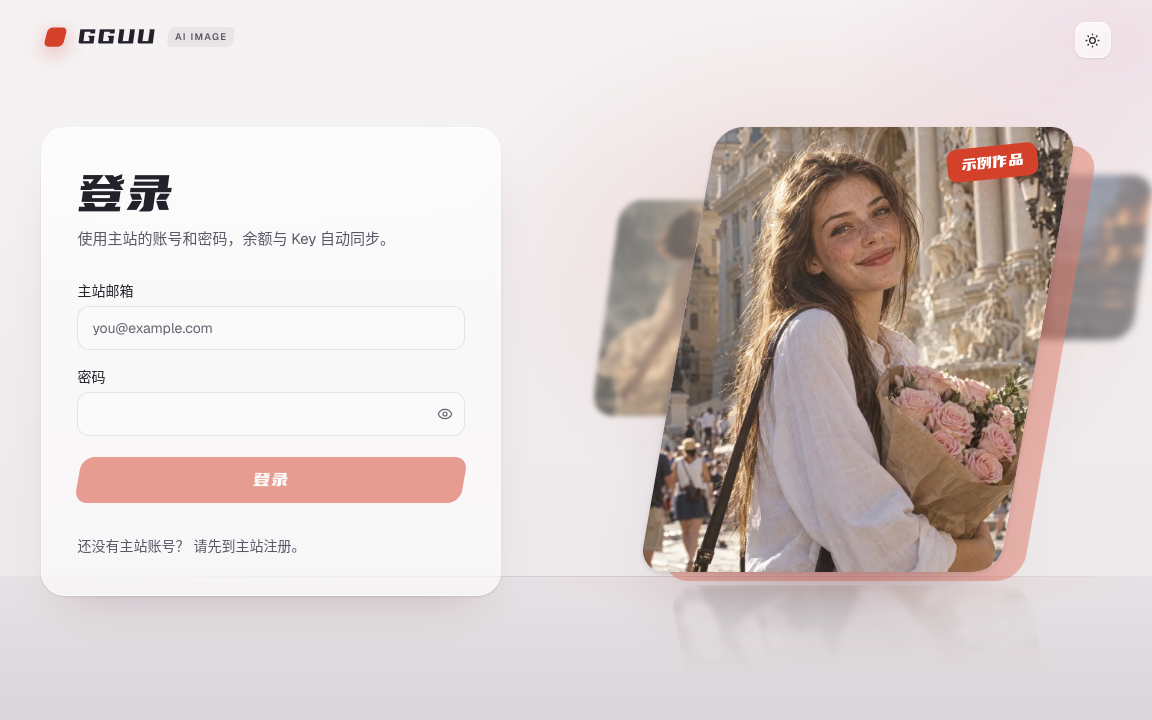
Login page › counts down after rate limiting using Retry-After
Type "user@example.com" into the field labelled "主站邮箱" at (272, 328), box [78, 306, 466, 350]
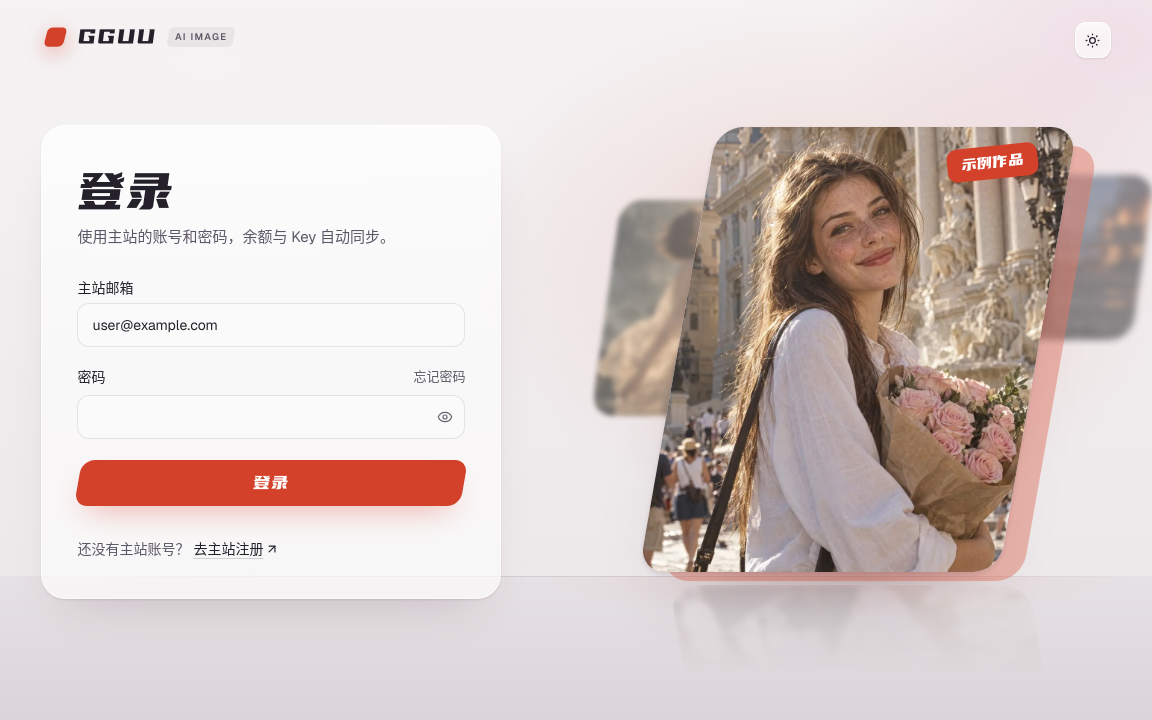
Type "s3cret-pass" into the password field labelled "密码" at (272, 416), box [78, 394, 466, 438]
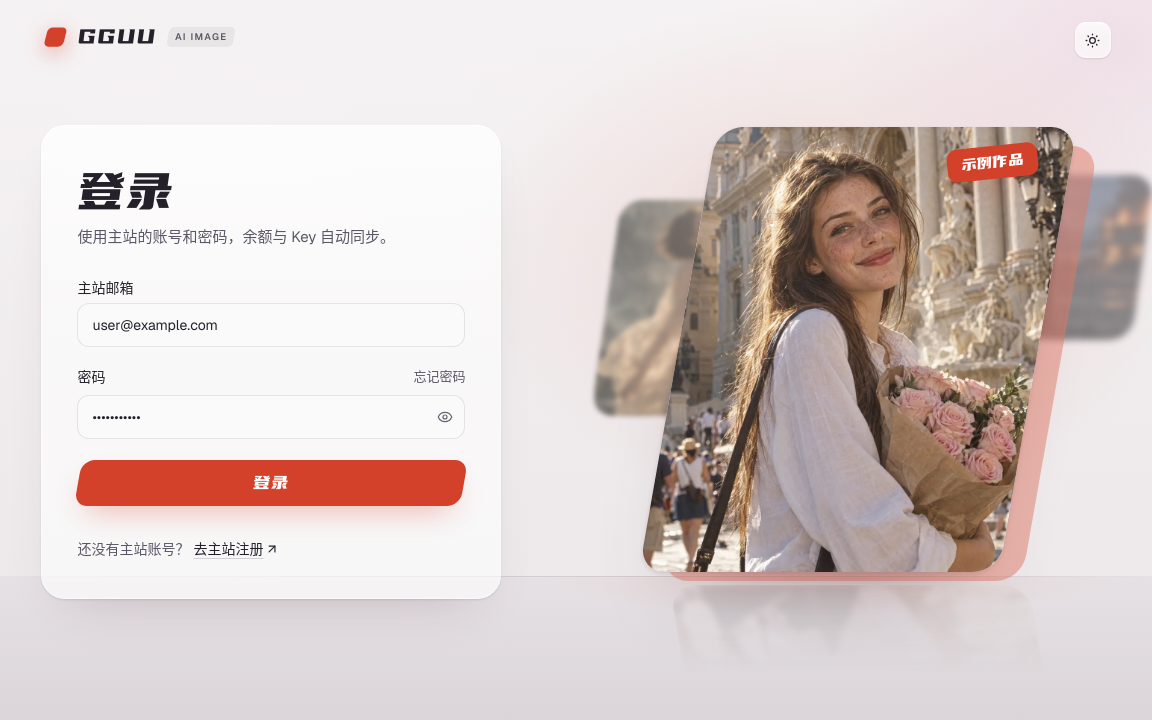
Click the button "登录" at (271, 482), box [73, 458, 470, 506]
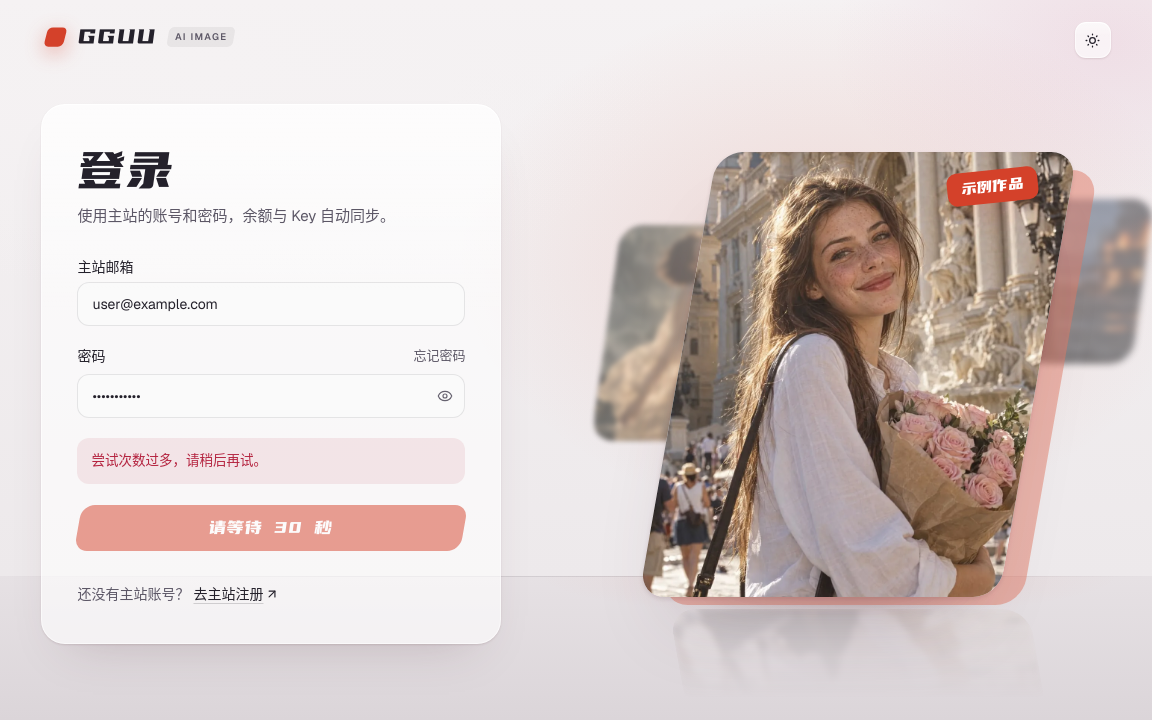
Now the button "请等待 30 秒" is disabled, box [73, 504, 470, 552]
